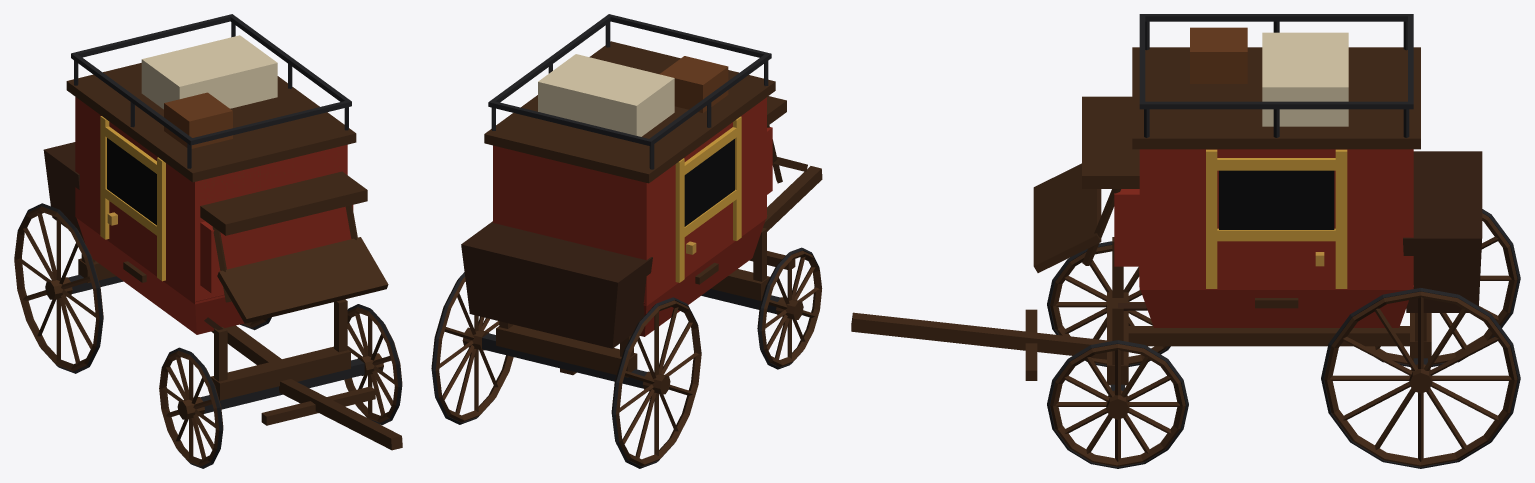
File: SM_Stagecoach.obj
The picture shows the model from 3 angles, left to right: view 1: azimuth 30°, elevation 25°; view 2: azimuth 150°, elevation 25°; view 3: azimuth 270°, elevation 25°; orthographic projection. The views are drawn at different scales.
Visible parts, largest first — view 1: SM_Stagecoach; view 2: SM_Stagecoach; view 3: SM_Stagecoach.
Part boxes in pixels (x1,y1,x2,y2): SM_Stagecoach: (14,14,402,468); SM_Stagecoach: (431,14,822,468); SM_Stagecoach: (851,14,1520,468).
Bounding box in the file's own units: 1.8 × 2.79 × 4.64.
